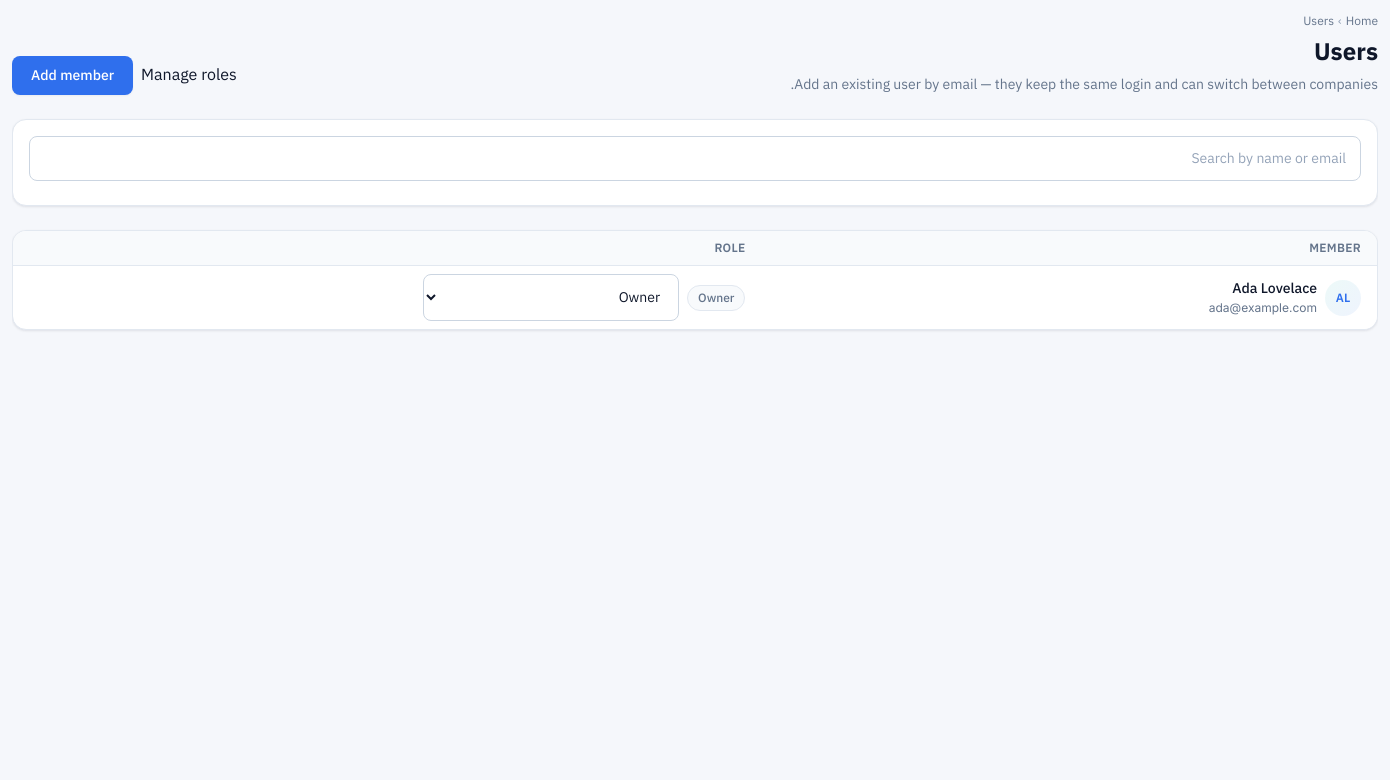
Test: users page › shows a filtered empty state when search matches nobody
The width and height of the screenshot is (1390, 780).
Expected: the text "ada@example.com" is shown, [1209,299,1317,317]
Step 1. Type "zzzz-no-match" into the field labelled "Search by name or email" → (695, 158), box [29,136,1361,181]
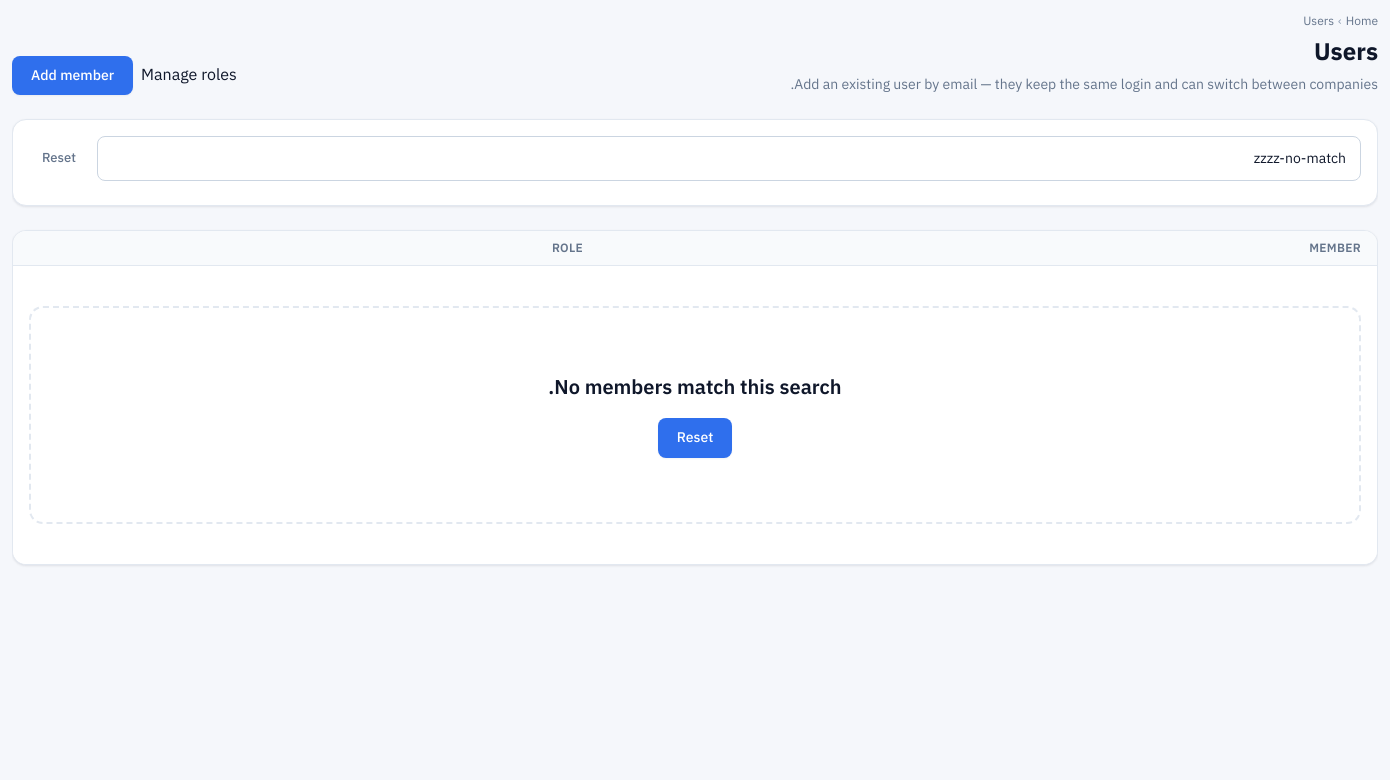
Expected: the heading "No members match this search." is shown, [548,372,842,402]
Expected: the text "ada@example.com" is gone
Step 2. Click the 1st button "Reset" → (59, 159), box [29,143,89,174]
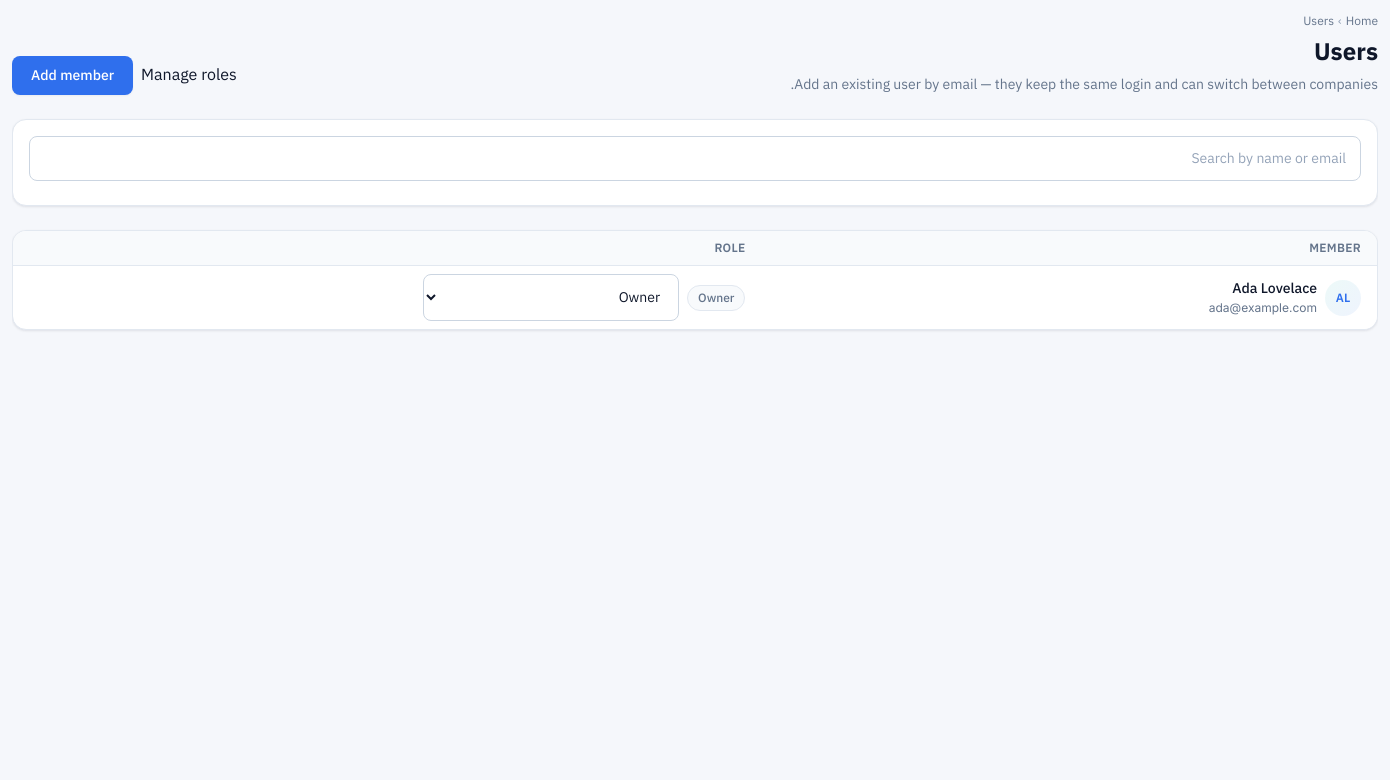
Expected: the text "ada@example.com" is shown, [1209,299,1317,317]
